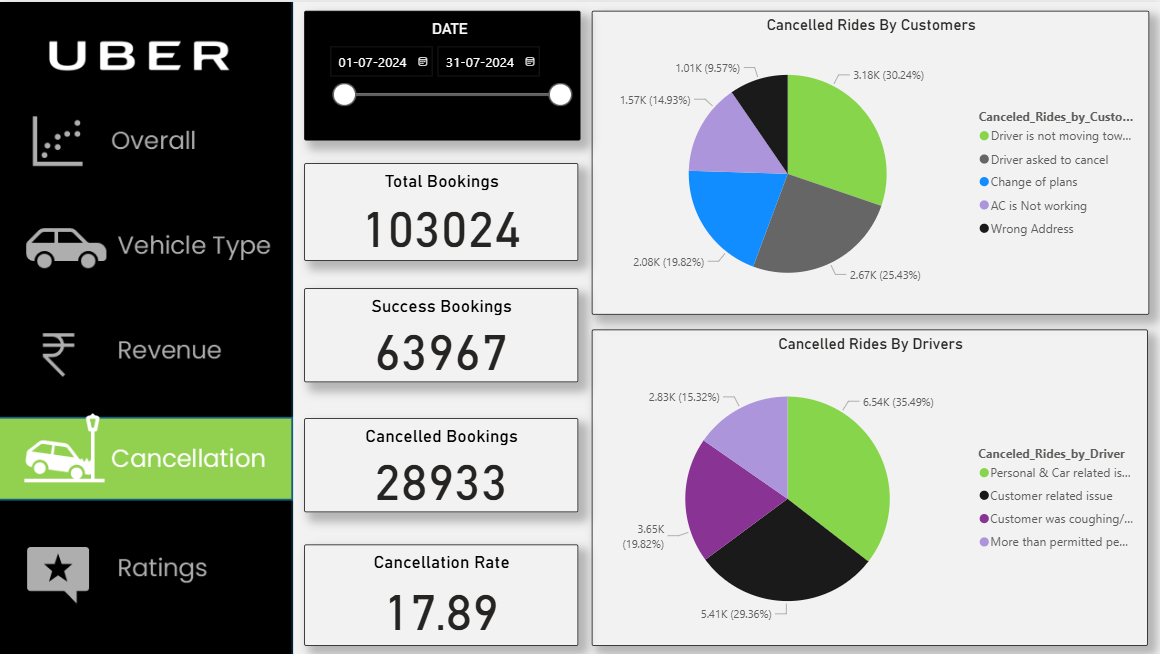

What the dashboard file says about the page in this screenshot:
{"tool":"powerbi","page":{"name":"Cancellation","canvas":[1280,720],"ordinal":3},"visuals":[{"type":"actionButton","box":[0,106.7,322.7,92],"z":0},{"type":"actionButton","box":[0,222.1,322.7,92],"z":1000},{"type":"actionButton","box":[1.2,343.6,322.7,96.9],"z":2000},{"type":"actionButton","box":[0,579.1,322.7,93.3],"z":3000},{"type":"pieChart","title":"Cancelled Rides By Customers ","fields":{"Y":["CountNonNull(July.Canceled_Rides_by_Customer)"],"Category":["July.Canceled_Rides_by_Customer"]},"box":[651.8,9.6,612,333.4],"z":4000},{"type":"pieChart","title":"Cancelled Rides By Drivers","fields":{"Category":["July.Canceled_Rides_by_Driver"],"Y":["CountNonNull(July.Canceled_Rides_by_Driver)"]},"box":[651.8,359.5,610.6,347.2],"z":5000},{"type":"slicer","title":"DATE","fields":{"Values":["July.Date"]},"box":[336.2,9.6,303.3,142.7],"z":6000},{"type":"card","title":"Total Bookings","fields":{"Values":["CountNonNull(July.Booking_ID)"]},"box":[435,177,201.7,107],"z":7000},{"type":"card","title":"Success Bookings","fields":{"Values":["CountNonNull(July.Booking_ID)"]},"box":[435,314.2,201.7,102.9],"z":8000},{"type":"card","title":"Cancelled Bookings","fields":{"Values":["CountNonNull(July.Booking_ID)"]},"box":[435,456.9,201.7,102.9],"z":9000},{"type":"card","title":"Cancellation Rate","fields":{"Values":["July.CanceledbookingPerct"]},"box":[435,595.5,201.7,111.1],"z":10000},{"type":"tableEx","fields":{"Values":["July.Time"]},"box":[336.2,157.8,86.4,548.9],"z":11000}]}

Visuals, with their boxes in screenshot pixels (x1, y1, x2, y2), scaled from the page's 1280x720 canvas onto the 1160x654 screenshot:
actionButton: (x1=0, y1=97, x2=292, y2=180)
actionButton: (x1=0, y1=202, x2=292, y2=285)
actionButton: (x1=1, y1=312, x2=294, y2=400)
actionButton: (x1=0, y1=526, x2=292, y2=611)
"Cancelled Rides By Customers " pieChart: (x1=591, y1=9, x2=1145, y2=312)
"Cancelled Rides By Drivers" pieChart: (x1=591, y1=327, x2=1144, y2=642)
"DATE" slicer: (x1=305, y1=9, x2=580, y2=138)
"Total Bookings" card: (x1=394, y1=161, x2=577, y2=258)
"Success Bookings" card: (x1=394, y1=285, x2=577, y2=379)
"Cancelled Bookings" card: (x1=394, y1=415, x2=577, y2=508)
"Cancellation Rate" card: (x1=394, y1=541, x2=577, y2=642)
tableEx - July.Time: (x1=305, y1=143, x2=383, y2=642)
